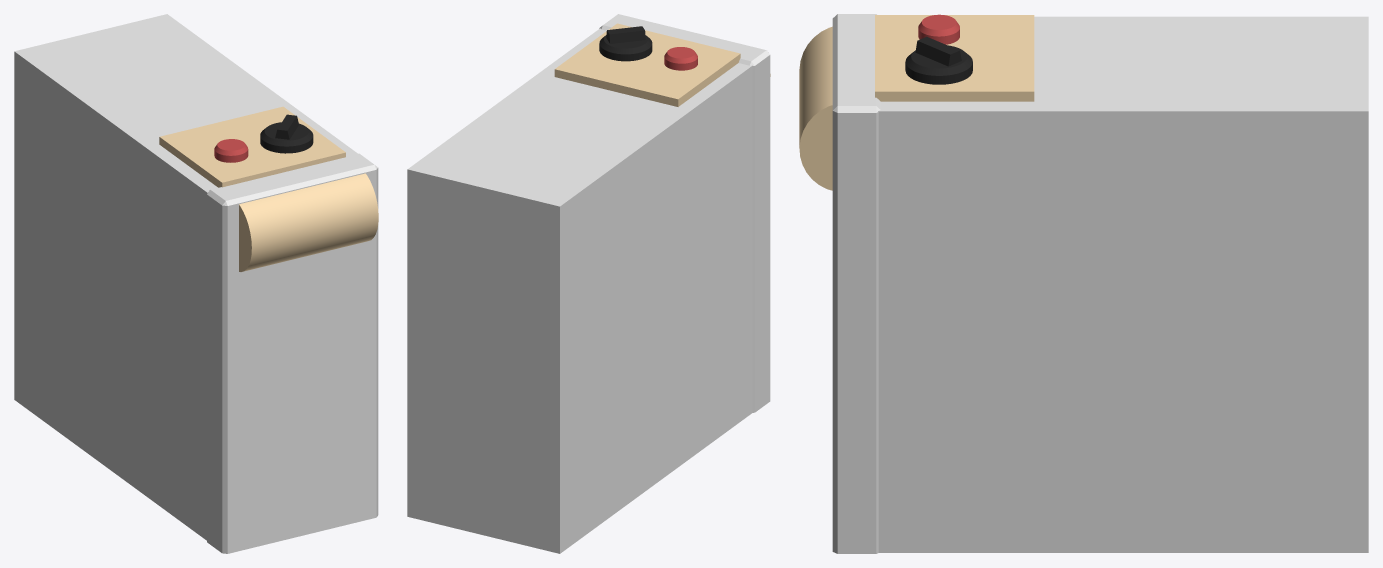
Rendered from Boiler.fbx.
3 views of the same model, side by side, from view 1: azimuth 30°, elevation 25°; view 2: azimuth 150°, elevation 25°; view 3: azimuth 270°, elevation 25° (orthographic). The views are drawn at different scales.
Parts seen in each view (by area): view 1: Boiler; view 2: Boiler; view 3: Boiler.
Part boxes in pixels (x1=…): Boiler: x1=14, y1=14, x2=378, y2=553; Boiler: x1=407, y1=14, x2=770, y2=553; Boiler: x1=799, y1=14, x2=1368, y2=553.
Size of the model in its own units: 62.34 by 144 by 155.
